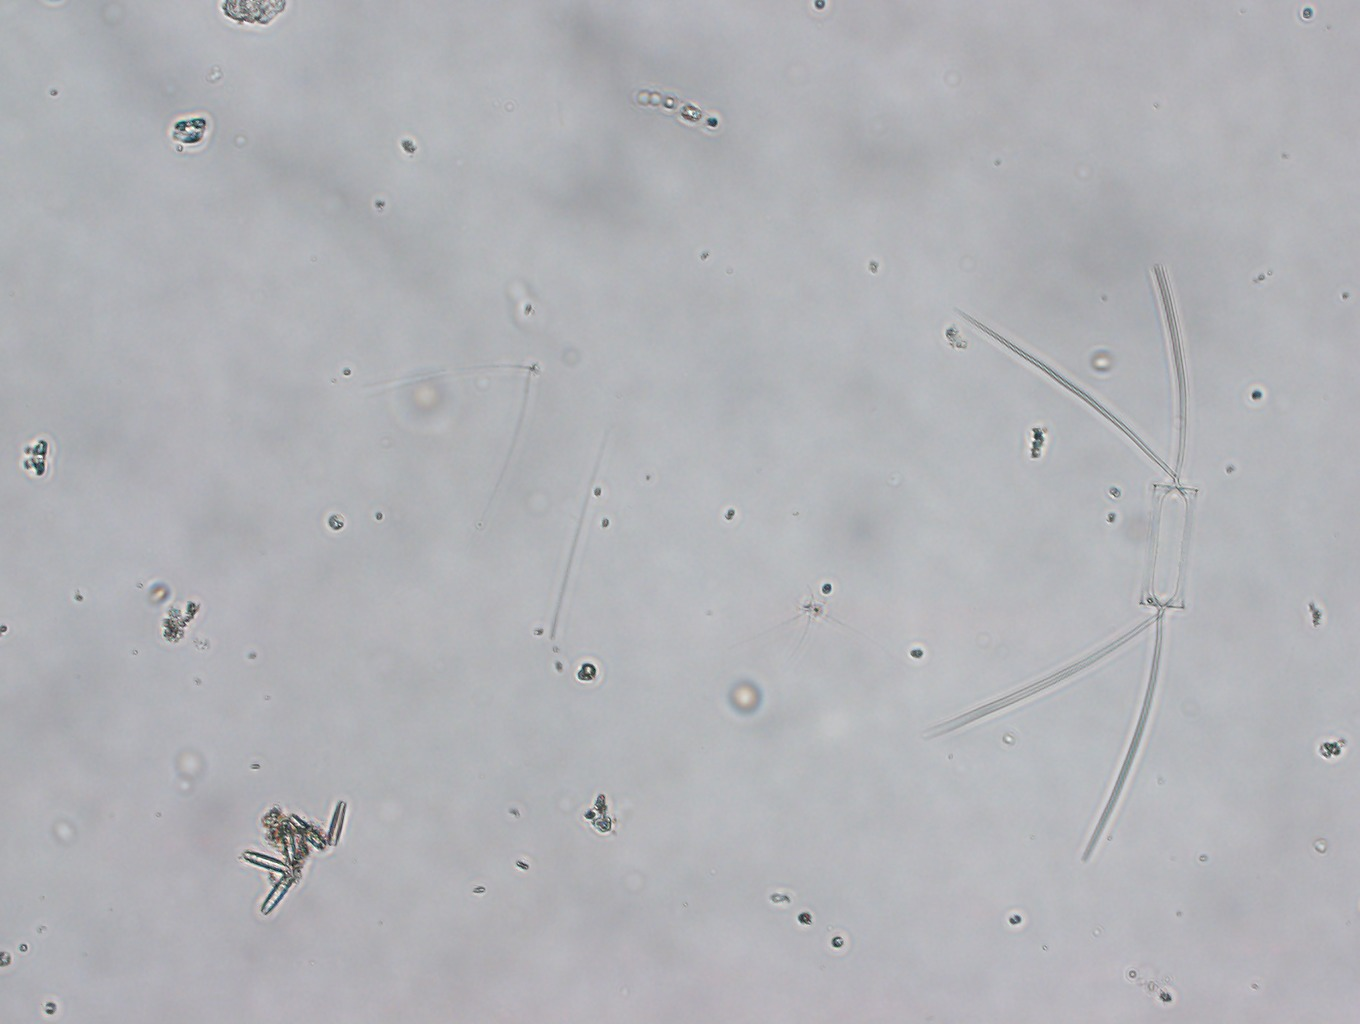chaetoceros: (901, 243, 1198, 874)
thalassionema nitzschioides: (239, 796, 350, 918)
